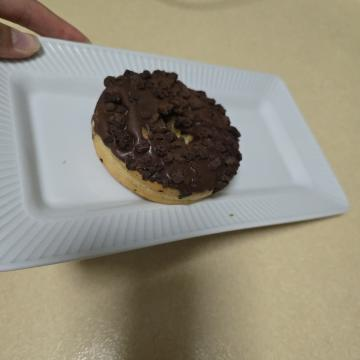doughnut: (49, 106, 219, 276)
